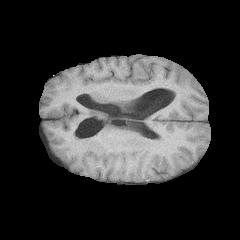glioma: (75, 110, 109, 157)
